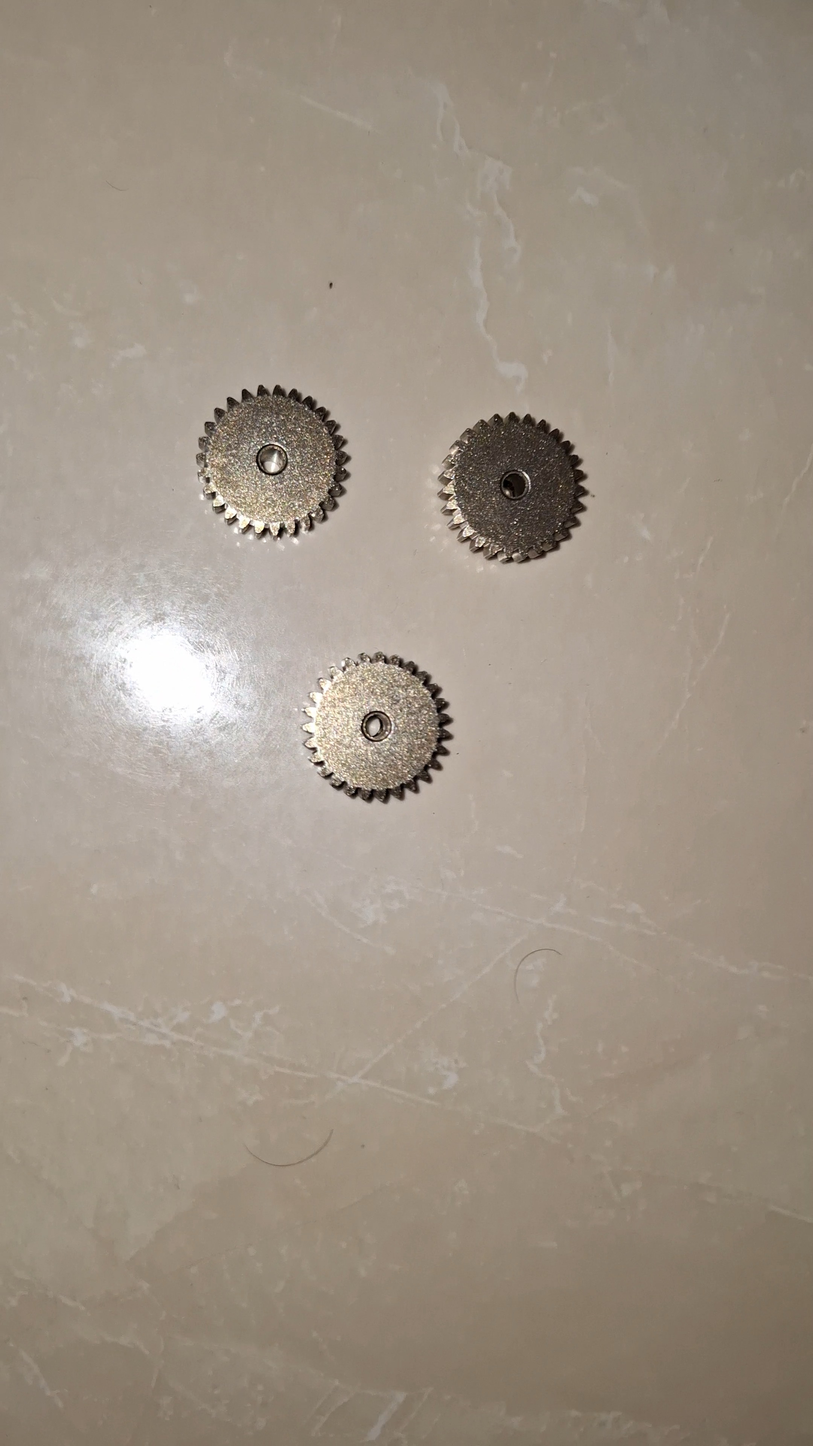spur gear: (197, 386, 349, 535), (303, 653, 451, 800), (440, 412, 586, 561)
